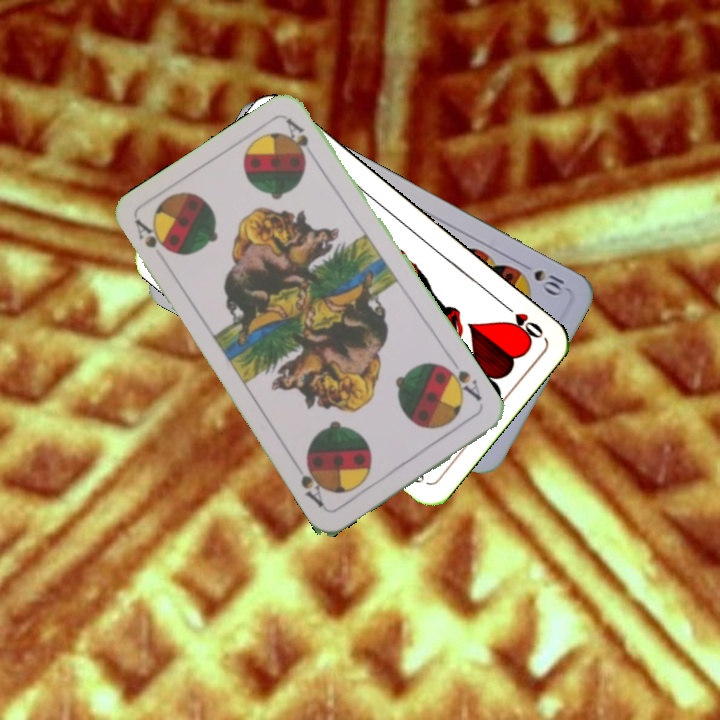HO: (497, 298, 546, 344)
S10: (516, 258, 567, 298)
SA: (439, 356, 485, 404), (131, 215, 173, 256)
